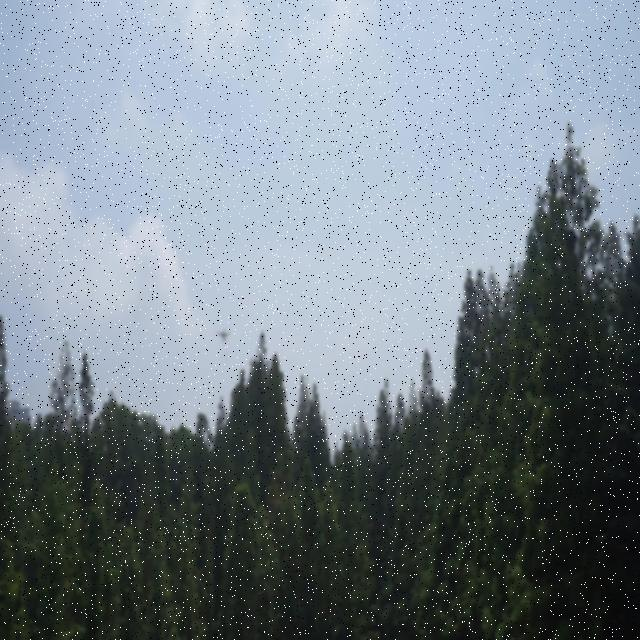UAV: (214, 329, 230, 342)
